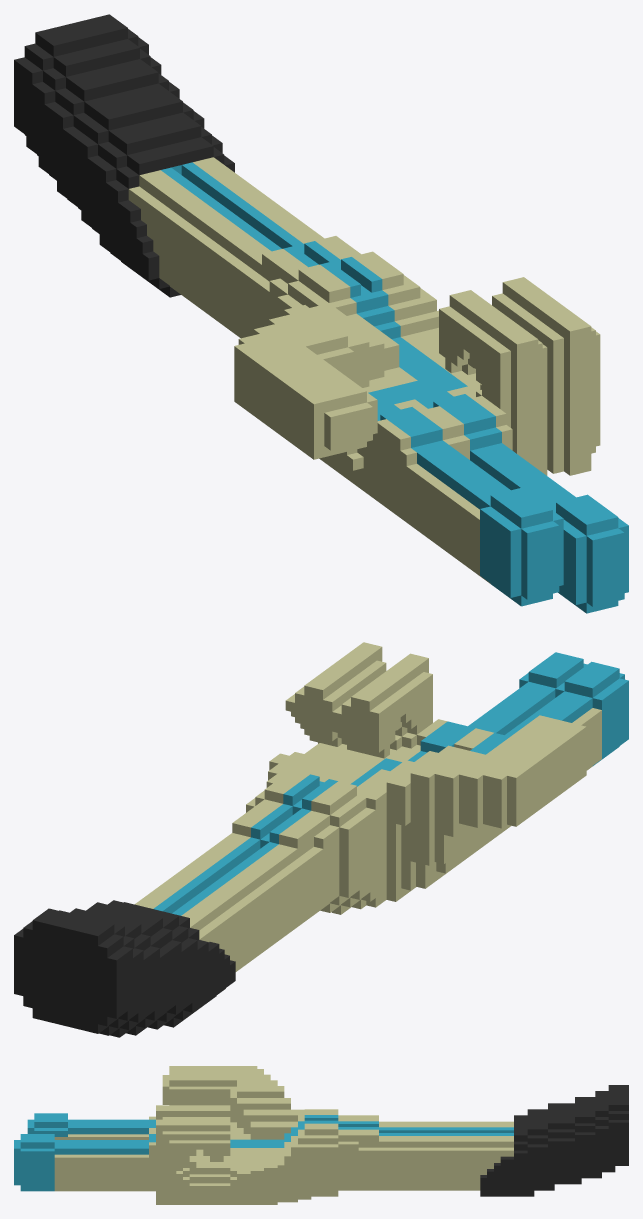
The model's file is AssualtRifle.obj.
3 renders of one model, top to bottom at view 1: azimuth 30°, elevation 25°; view 2: azimuth 150°, elevation 25°; view 3: azimuth 270°, elevation 25°, orthographic. The views are drawn at different scales.
Bounding box in the file's own units: 2.7 × 1.6 × 9.1.
1 material, 1 textured.
